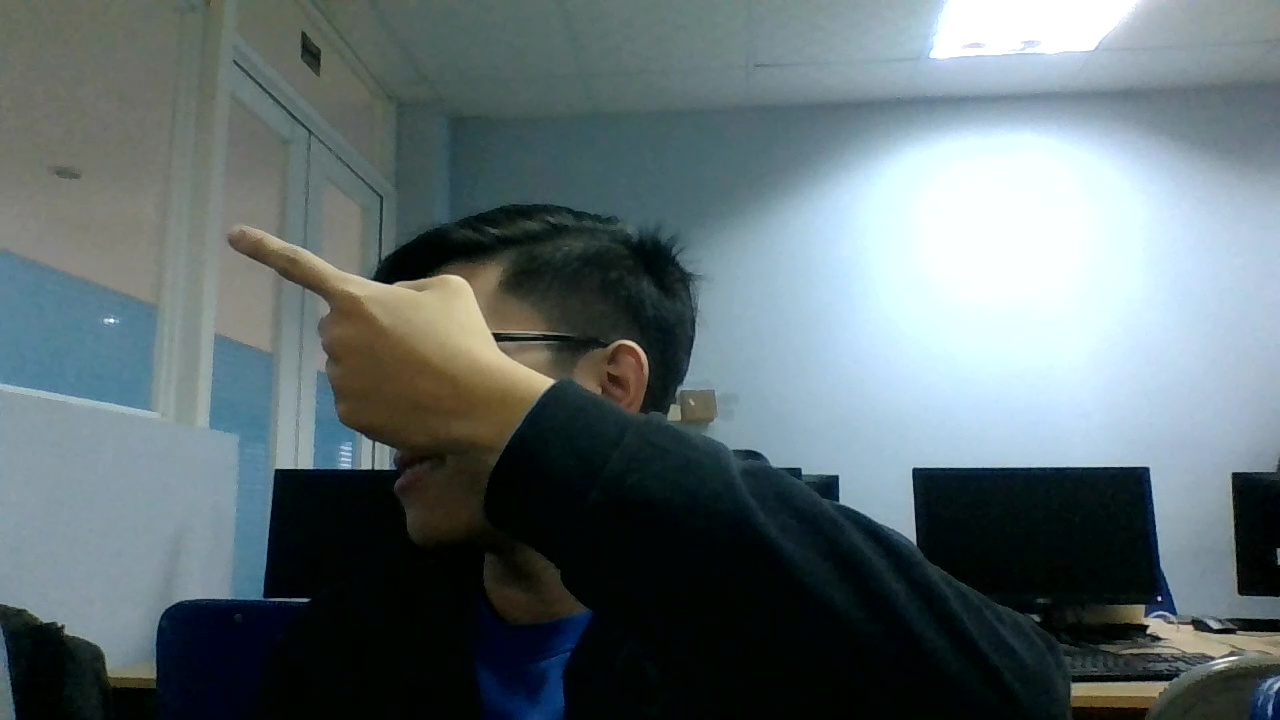right: (227, 223, 480, 468)
